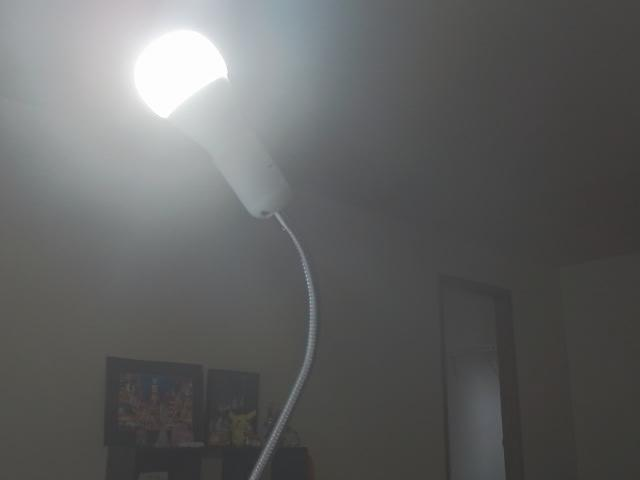TubeLight: (132, 27, 239, 155)
